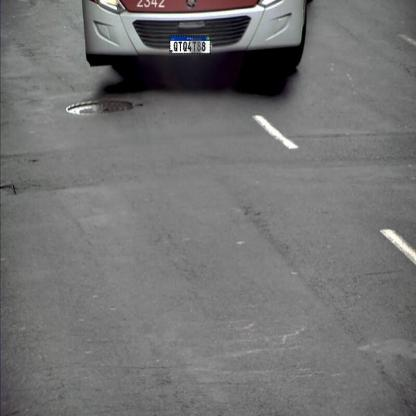PlacaM: (170, 35, 210, 54)
